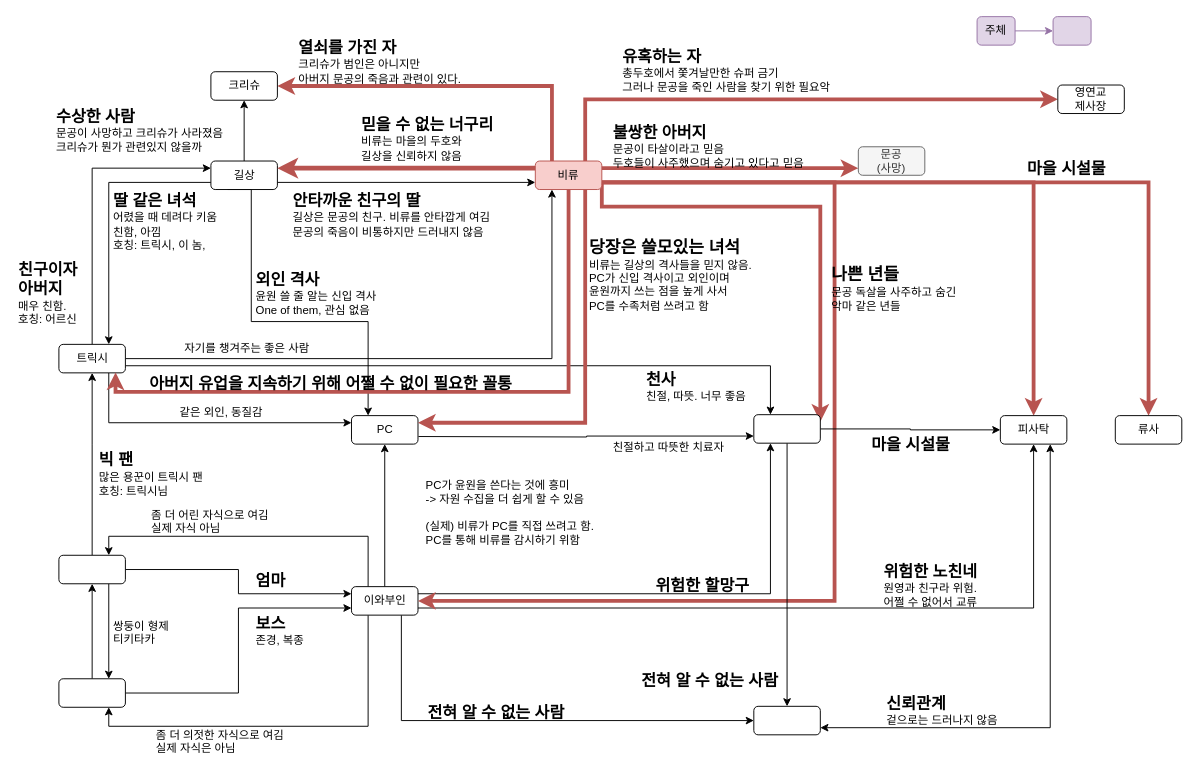
The diagram is 1199 pixels wide and 773 high, and some of its shapes have lost their labels. Each missing label, with the centre of its shape:
"객체" goes at point (1071, 30).
"능사" goes at point (91, 569).
"능삼" goes at point (91, 692).
"원영선생" goes at point (786, 428).
"차야" goes at point (786, 720).
